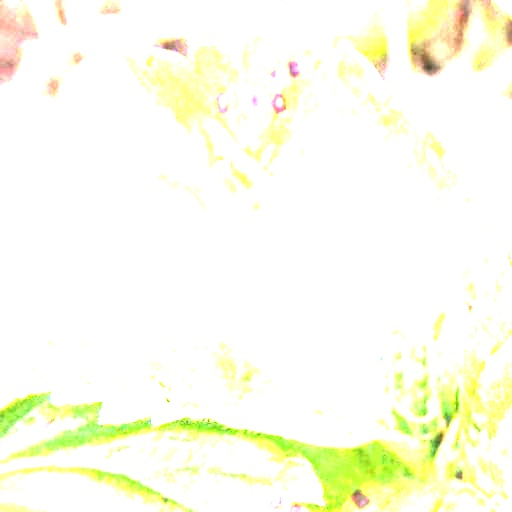Leaf Spot: (0, 20, 477, 478), (0, 391, 326, 511), (337, 441, 511, 511)
